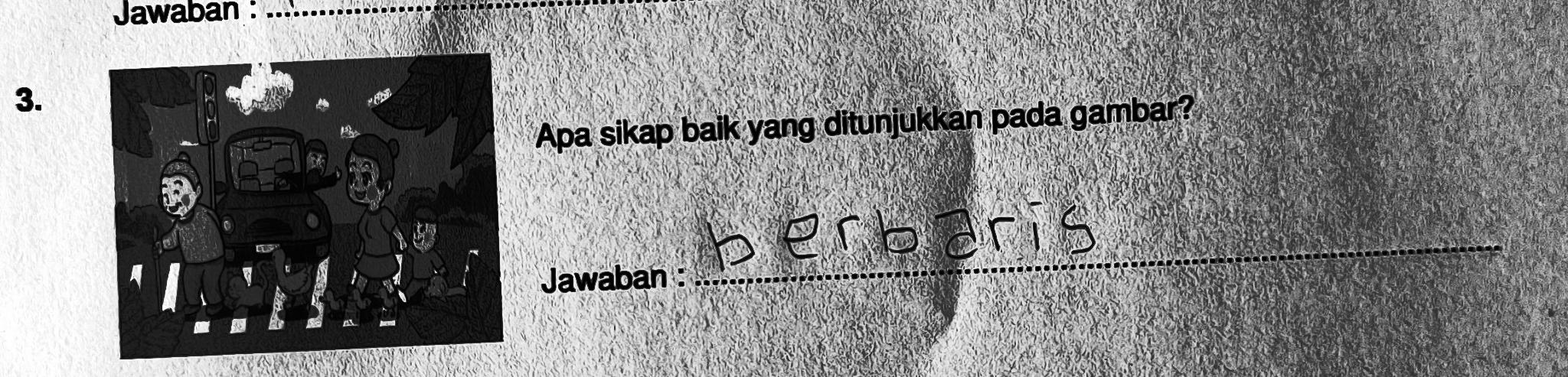jawaban: (697, 186, 1101, 280)
